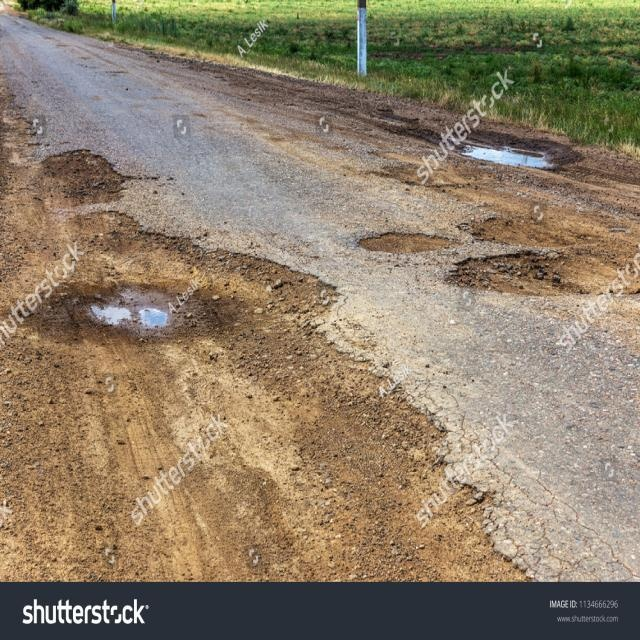pothole: (444, 252, 628, 299)
